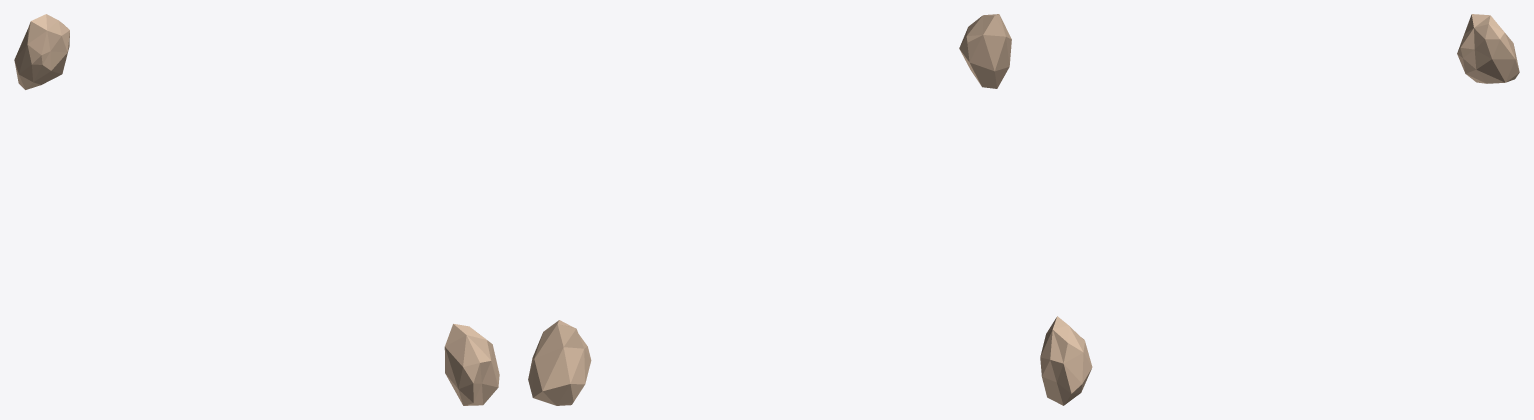
The picture shows the model from 3 angles, left to right: view 1: azimuth 30°, elevation 25°; view 2: azimuth 150°, elevation 25°; view 3: azimuth 330°, elevation 25°; orthographic projection.
Visible parts, largest first — view 1: 280.obj; view 2: 280.obj; view 3: 280.obj.
Boxes of the visible parts, box(x1,y1,x2,y2) form: 280.obj: box(14, 14, 499, 405); 280.obj: box(528, 14, 1011, 405); 280.obj: box(1040, 14, 1519, 405).
Bounding box in the file's own units: 112 × 163 × 1718.
